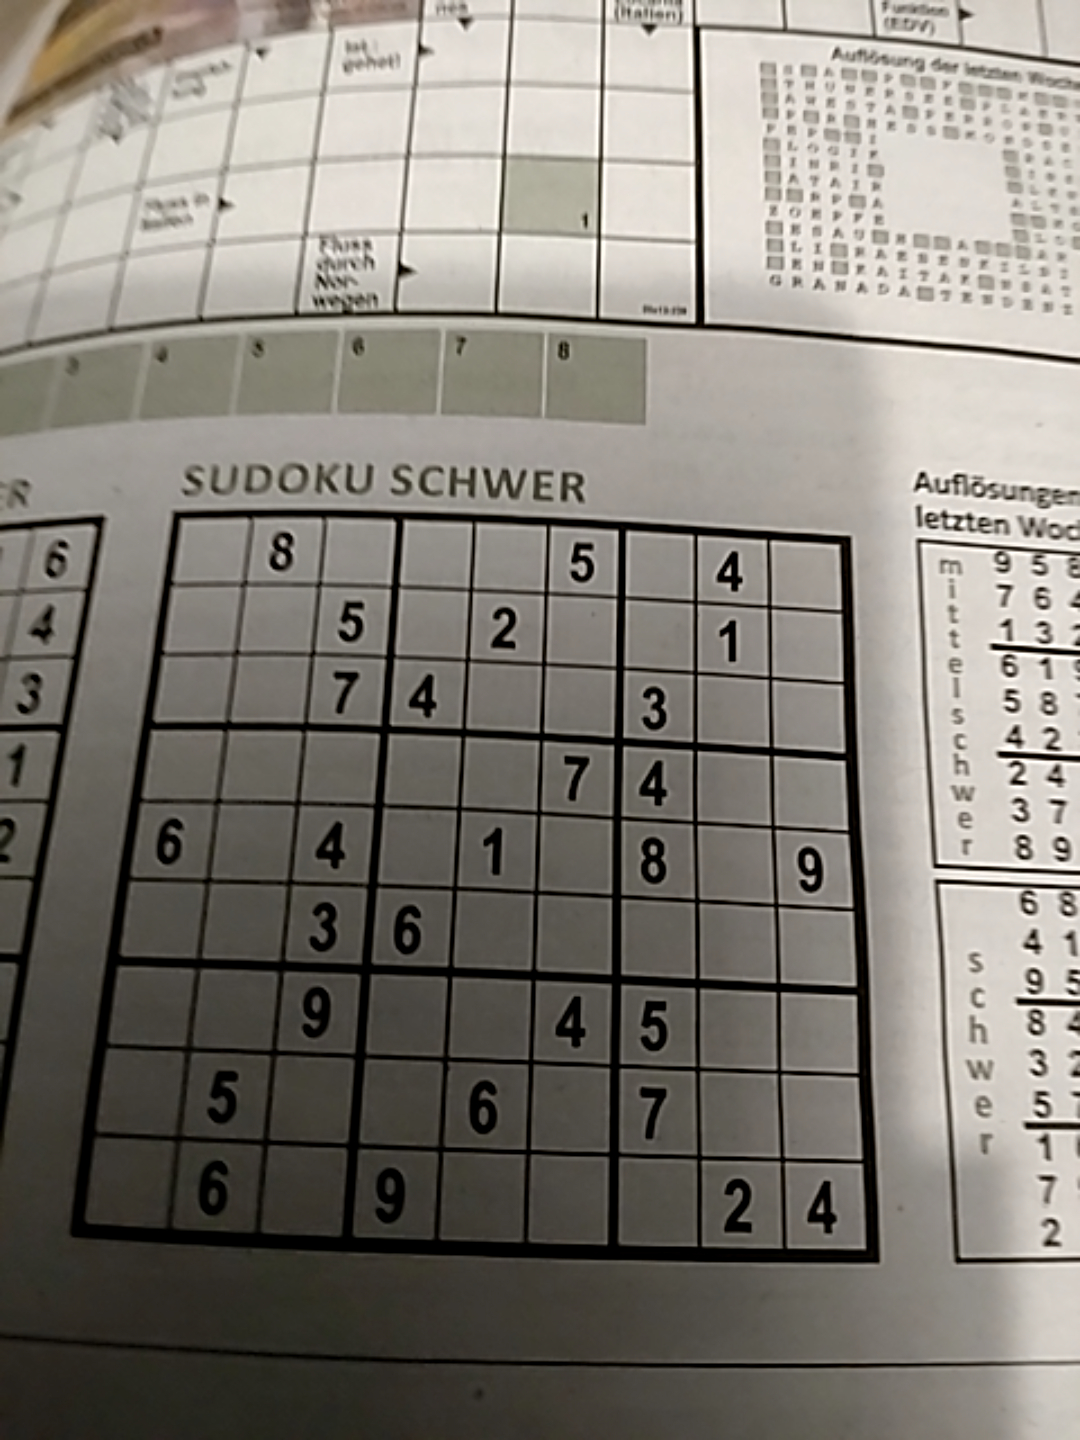sudoku: (66, 504, 882, 1265)
